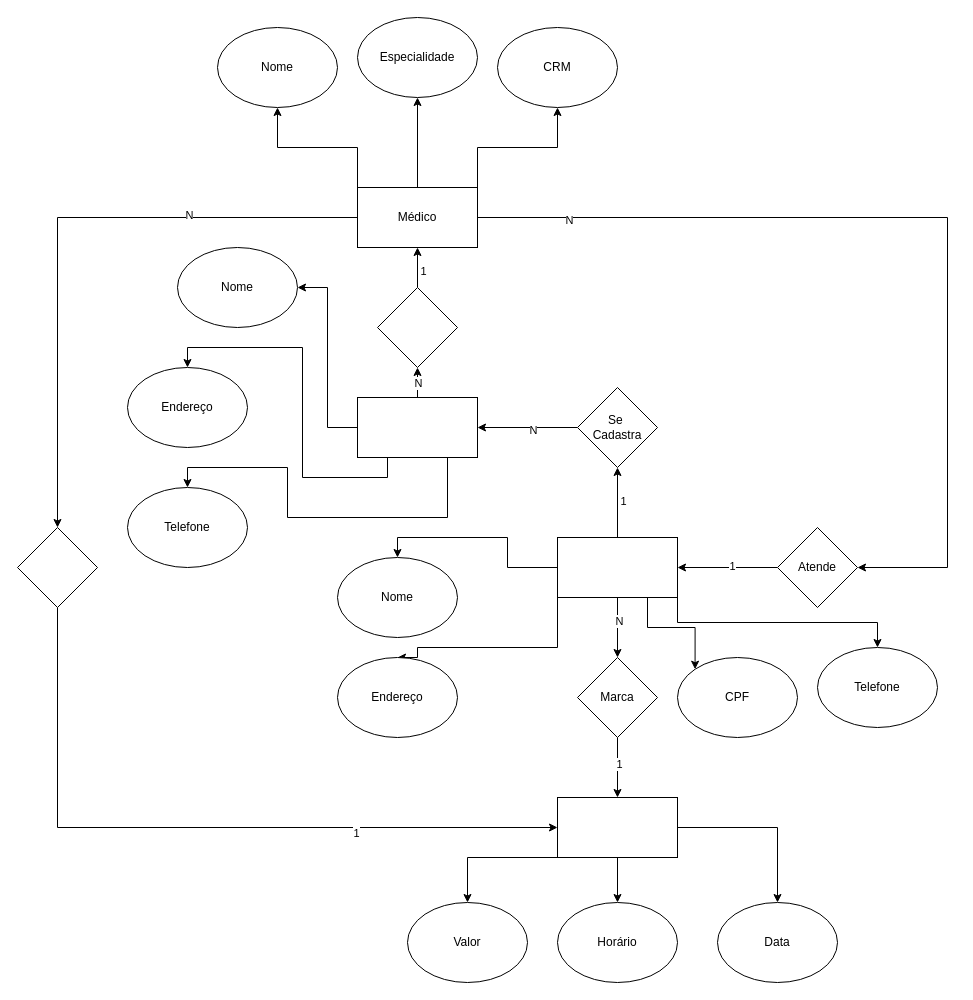
The diagram is 973 pixels wide and 1000 high, and some of its shapes have lost their labels. Each missing label, with the centre of its shape:
Clínica: pixel 417 427
Consulta: pixel 617 827
Paciente: pixel 617 567
Possui: pixel 417 327
Realiza: pixel 57 567
